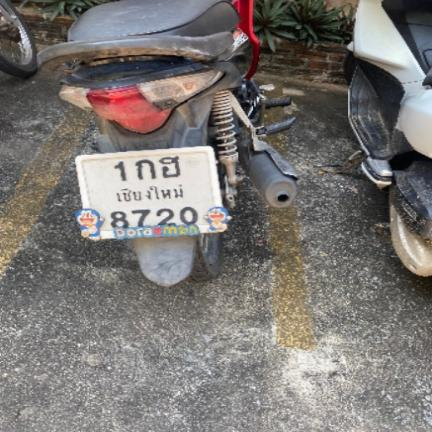0: (178, 206, 200, 227)
1: (109, 159, 131, 183)
2: (152, 208, 178, 228)
7: (132, 208, 153, 227)
8: (106, 208, 131, 228)
A01: (133, 156, 159, 181)
A44: (159, 155, 185, 178)
CMI: (109, 182, 187, 205)
